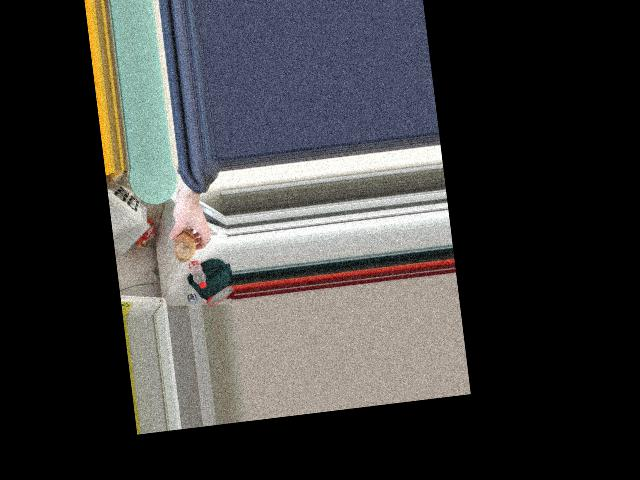sweet_potato: (167, 224, 200, 265)
